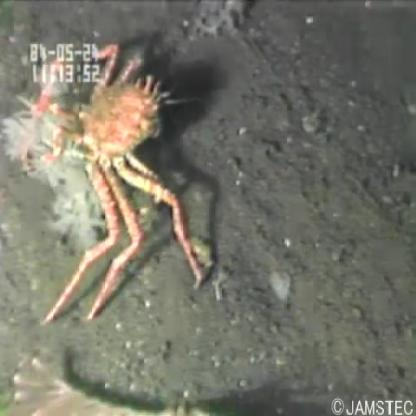Bio: (1, 38, 210, 325)
